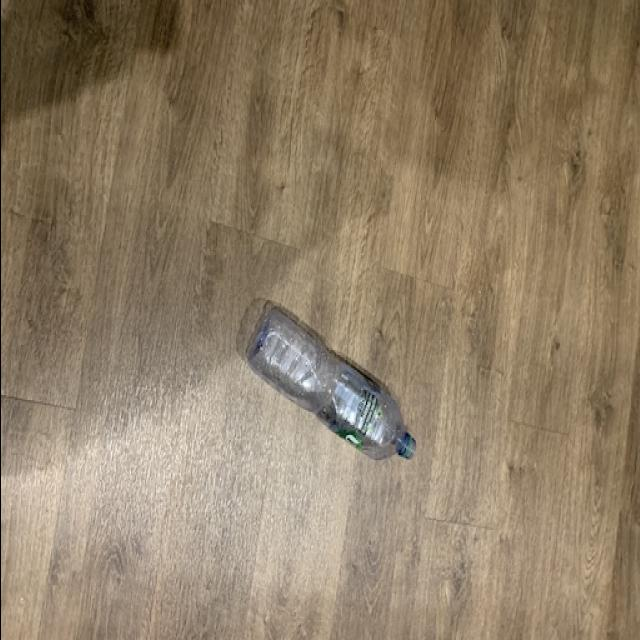litter: (240, 302, 418, 464)
